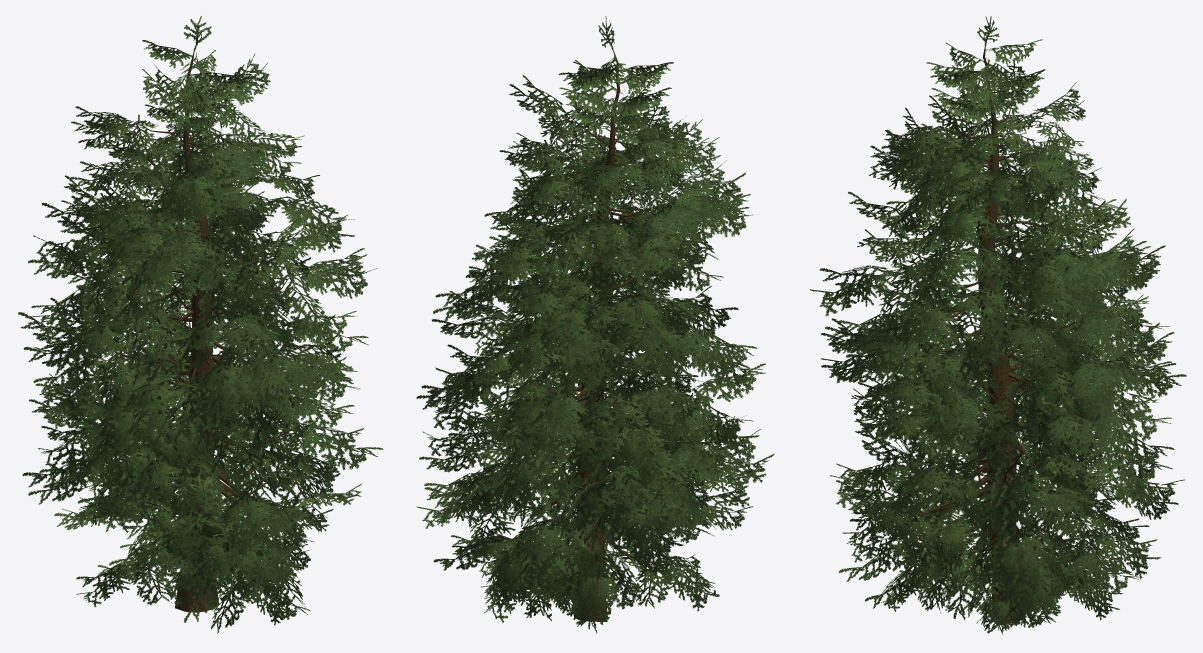
The model's file is baum_fichte_3_lod0.glb.
3 renders of one model, left to right at view 1: azimuth 30°, elevation 25°; view 2: azimuth 150°, elevation 25°; view 3: azimuth 270°, elevation 25°, orthographic.
Parts seen in each view (by area): view 1: Krone, Stamm; view 2: Krone, Stamm; view 3: Krone, Stamm.
Part boxes in pixels (x1,y1,x2,y2): Krone: (18,16,382,633); Stamm: (107,51,295,612); Krone: (416,16,774,633); Stamm: (495,51,690,621); Krone: (810,16,1186,634); Stamm: (899,46,1103,625).
Bounding box in the file's own units: 9.05 × 16 × 9.25.
Materials: 2 (2 with a texture image).
